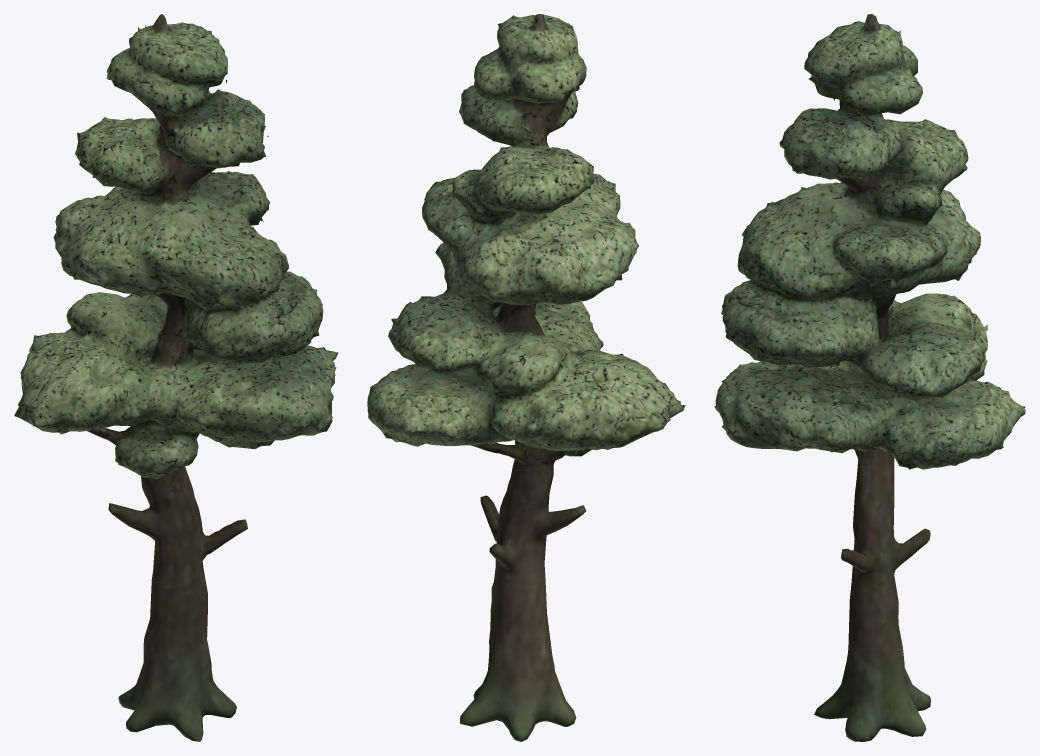
File: tree_tall_b_meshy_high.glb
The picture shows the model from 3 angles, left to right: view 1: azimuth 30°, elevation 25°; view 2: azimuth 150°, elevation 25°; view 3: azimuth 270°, elevation 25°; orthographic projection.
Parts seen in each view (by area): view 1: tree_tall_b_meshy_hd; view 2: tree_tall_b_meshy_hd; view 3: tree_tall_b_meshy_hd.
Boxes of the visible parts, <box> form: tree_tall_b_meshy_hd: <box>14,14,338,741</box>; tree_tall_b_meshy_hd: <box>367,14,685,741</box>; tree_tall_b_meshy_hd: <box>714,14,1025,741</box>.
Bounding box in the file's own units: 1.98 × 4.65 × 1.88.
1 material, 1 textured.
